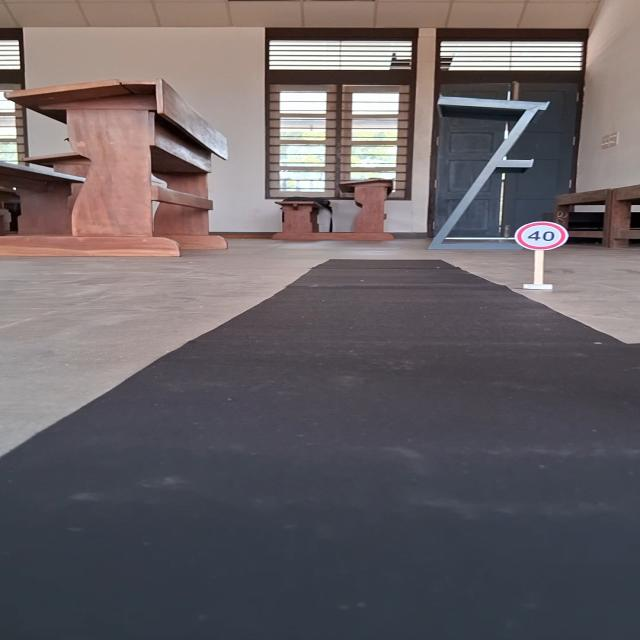Speed40: (513, 218, 571, 252)
